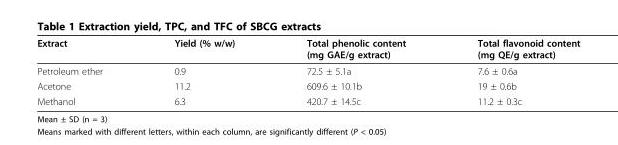table: (36, 36, 579, 106)
table column: (270, 36, 440, 106), (440, 36, 579, 106), (137, 36, 270, 106), (36, 36, 137, 106)
table column header: (36, 36, 579, 62)
table row: (36, 36, 579, 62), (36, 62, 579, 78), (36, 78, 579, 93), (36, 93, 579, 106)
